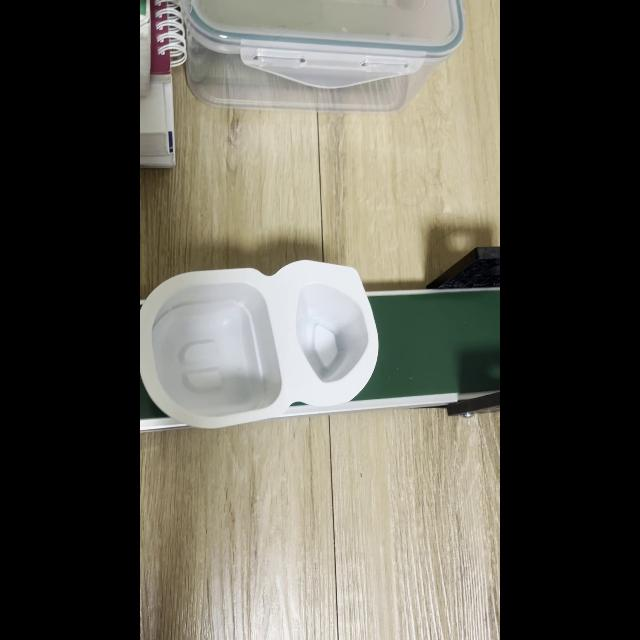clean: (141, 294, 371, 398)
